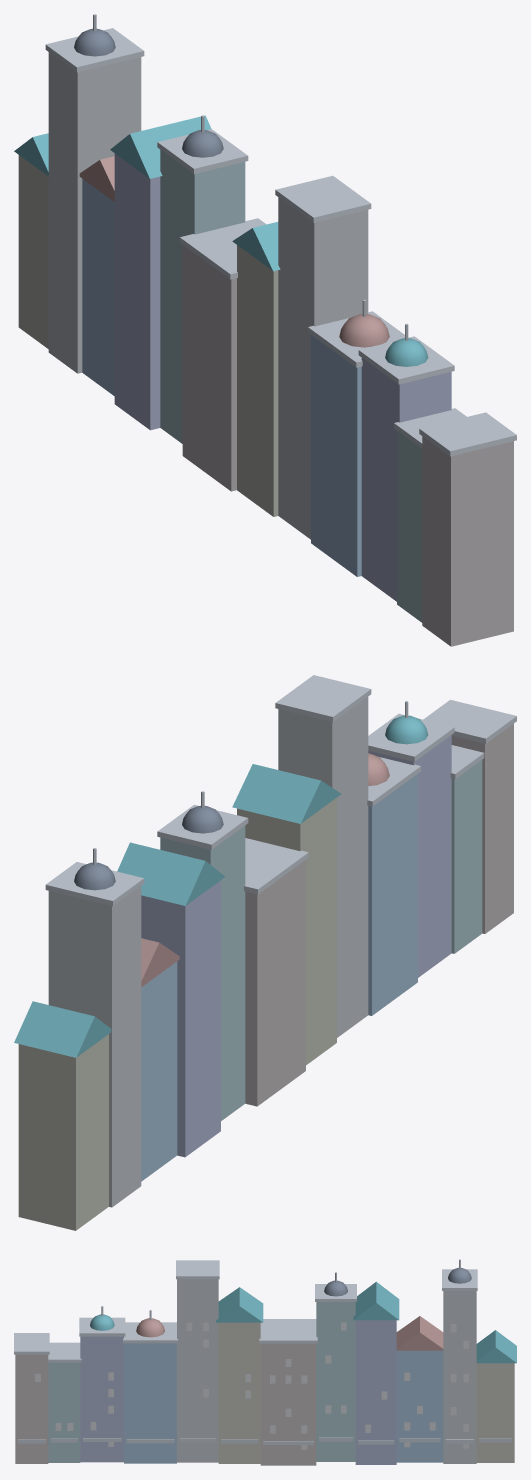
Rendered from backdrop_city.glb.
The picture shows the model from 3 angles, top to bottom: view 1: azimuth 30°, elevation 25°; view 2: azimuth 150°, elevation 25°; view 3: azimuth 270°, elevation 25°; orthographic projection. The views are drawn at different scales.
Parts seen in each view (by area): view 1: BackdropCity; view 2: BackdropCity; view 3: BackdropCity.
Boxes of the visible parts, bbox=[...] form: BackdropCity: bbox=[14, 14, 516, 646]; BackdropCity: bbox=[14, 675, 516, 1230]; BackdropCity: bbox=[14, 1259, 516, 1465].
Bounding box in the file's own units: 6.23 × 25.9 × 60.45.
